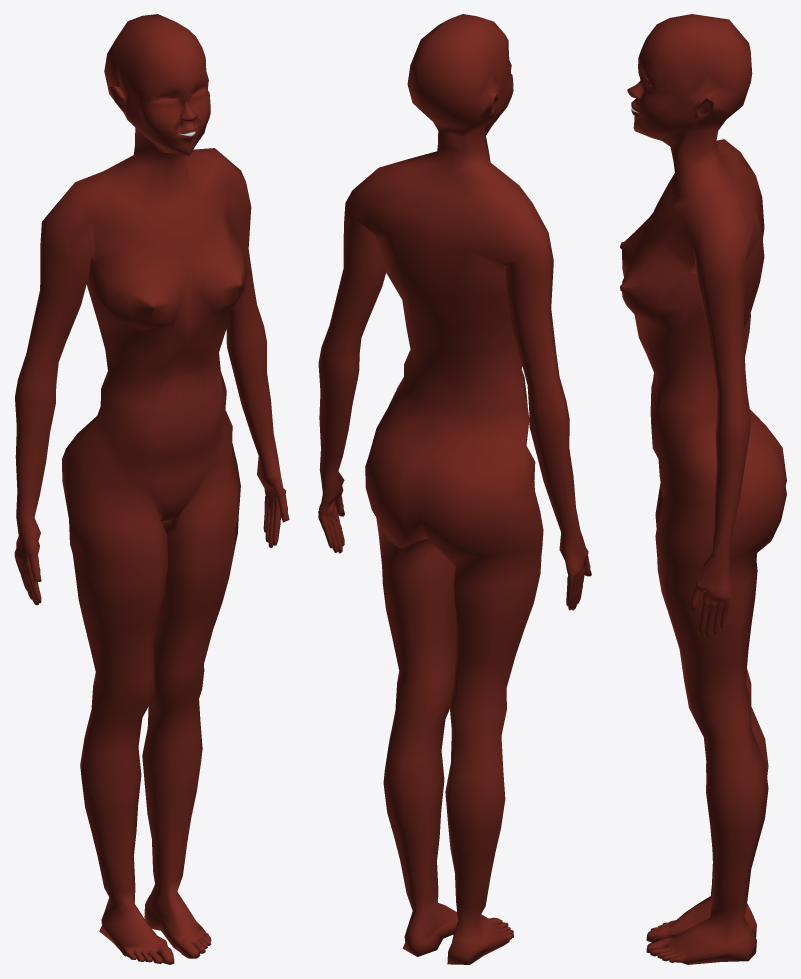
Rendered from human2 lowpoly.obj.
3 renders of one model, left to right at view 1: azimuth 30°, elevation 25°; view 2: azimuth 150°, elevation 25°; view 3: azimuth 270°, elevation 25°, orthographic.
Visible parts, largest first — view 1: Human_Cube; view 2: Human_Cube; view 3: Human_Cube.
Part boxes in pixels (x1,y1,x2,y2): Human_Cube: (14, 14, 289, 964); Human_Cube: (318, 14, 591, 964); Human_Cube: (620, 14, 786, 964).
Bounding box in the file's own units: 1.23 × 4.15 × 0.677.
